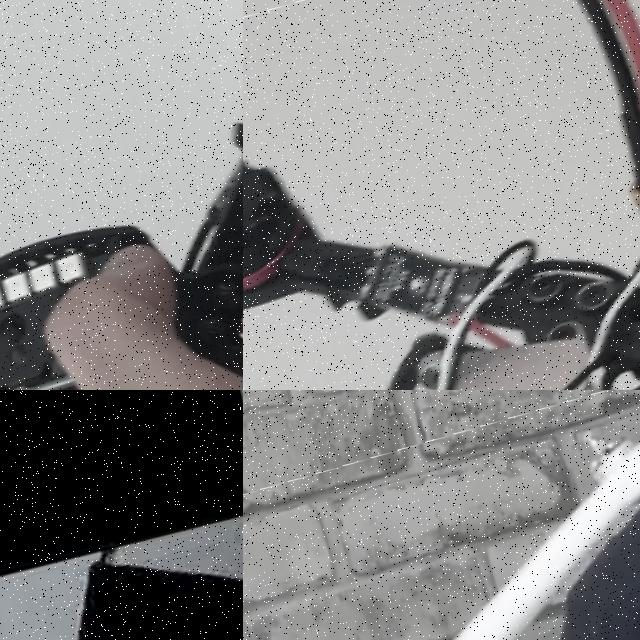drone: (243, 0, 640, 390), (243, 390, 640, 640), (0, 0, 243, 390)
